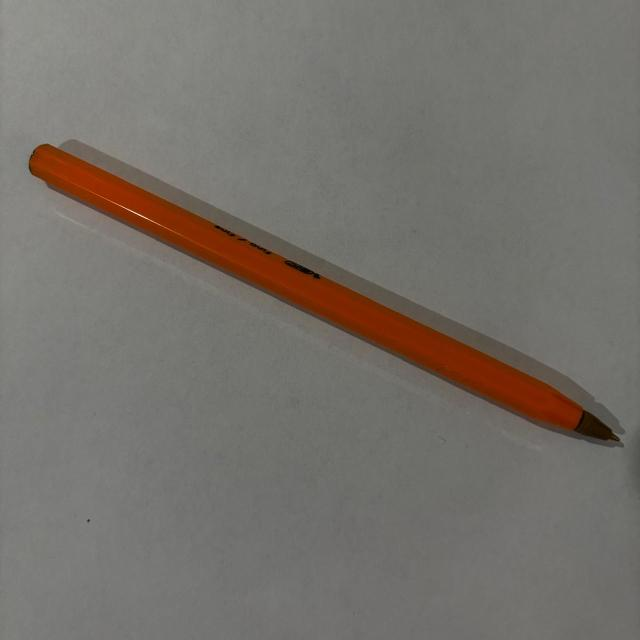pencil: (30, 143, 621, 442)
